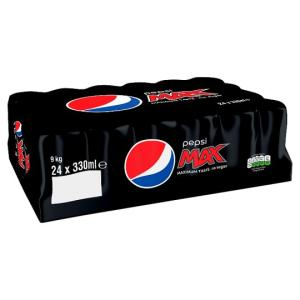pepsi: (123, 135, 174, 187), (123, 136, 174, 187), (64, 93, 142, 112), (12, 118, 21, 135)
